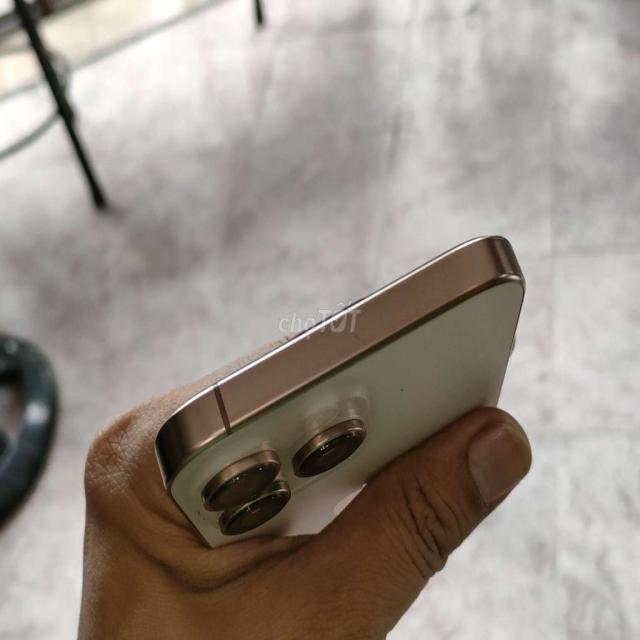scratch: (187, 503, 234, 542), (342, 321, 372, 352), (393, 380, 408, 398)
